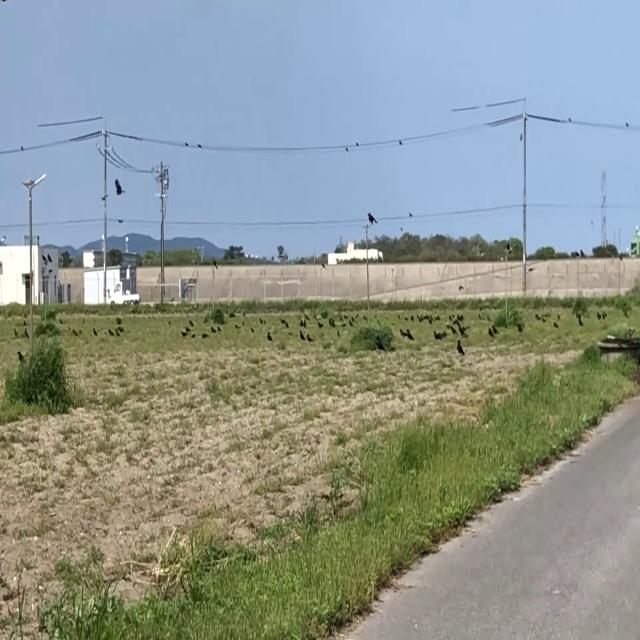bird: (115, 173, 124, 199), (367, 208, 376, 230), (458, 338, 463, 359), (488, 325, 492, 341), (185, 136, 188, 150)
